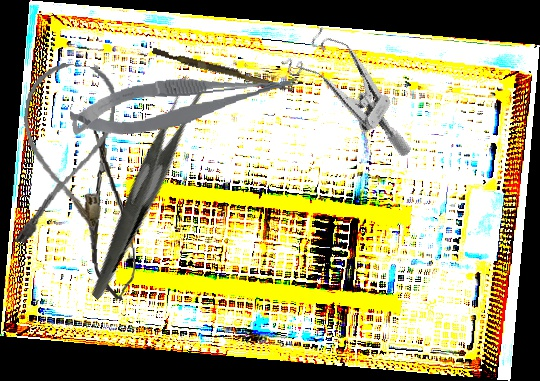Cannula: (9, 59, 120, 252)
Dressing Forceps: (32, 72, 254, 301)
Micro Scissor: (68, 67, 301, 141), (82, 122, 139, 303)
Pusher: (150, 47, 296, 93)
Speculum: (273, 18, 441, 159)
